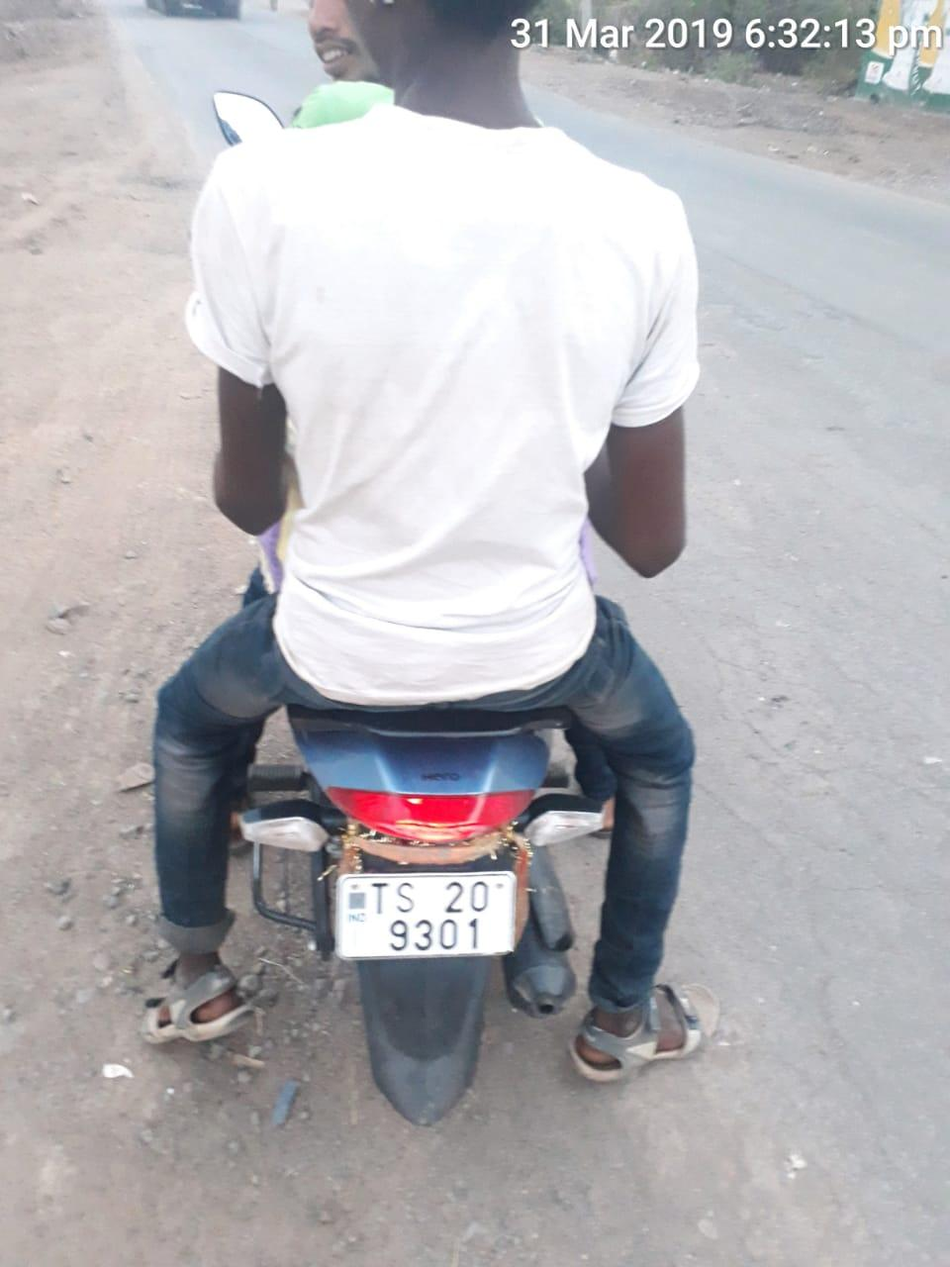plate: (321, 840, 540, 984)
